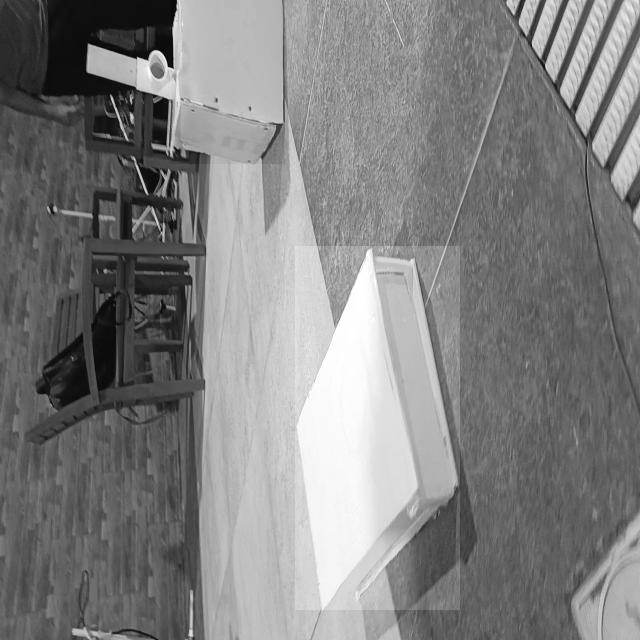Cube: (171, 0, 285, 164)
Cuboid: (295, 246, 460, 610)
